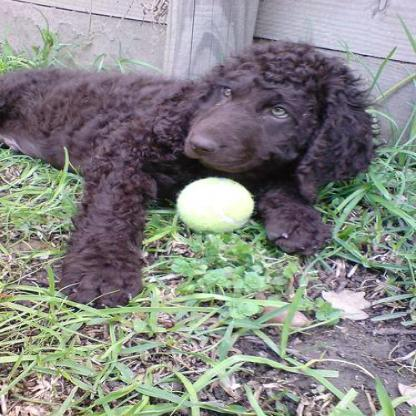Irish_water_spaniel: (1, 34, 382, 306)
